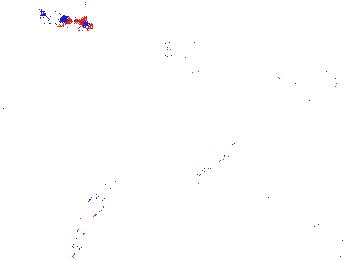X-ray fish: (156, 36, 226, 73)
glassfish: (175, 132, 276, 199), (71, 162, 125, 252)
red belly glassfish: (42, 12, 92, 31), (273, 74, 318, 89), (313, 73, 346, 90)
